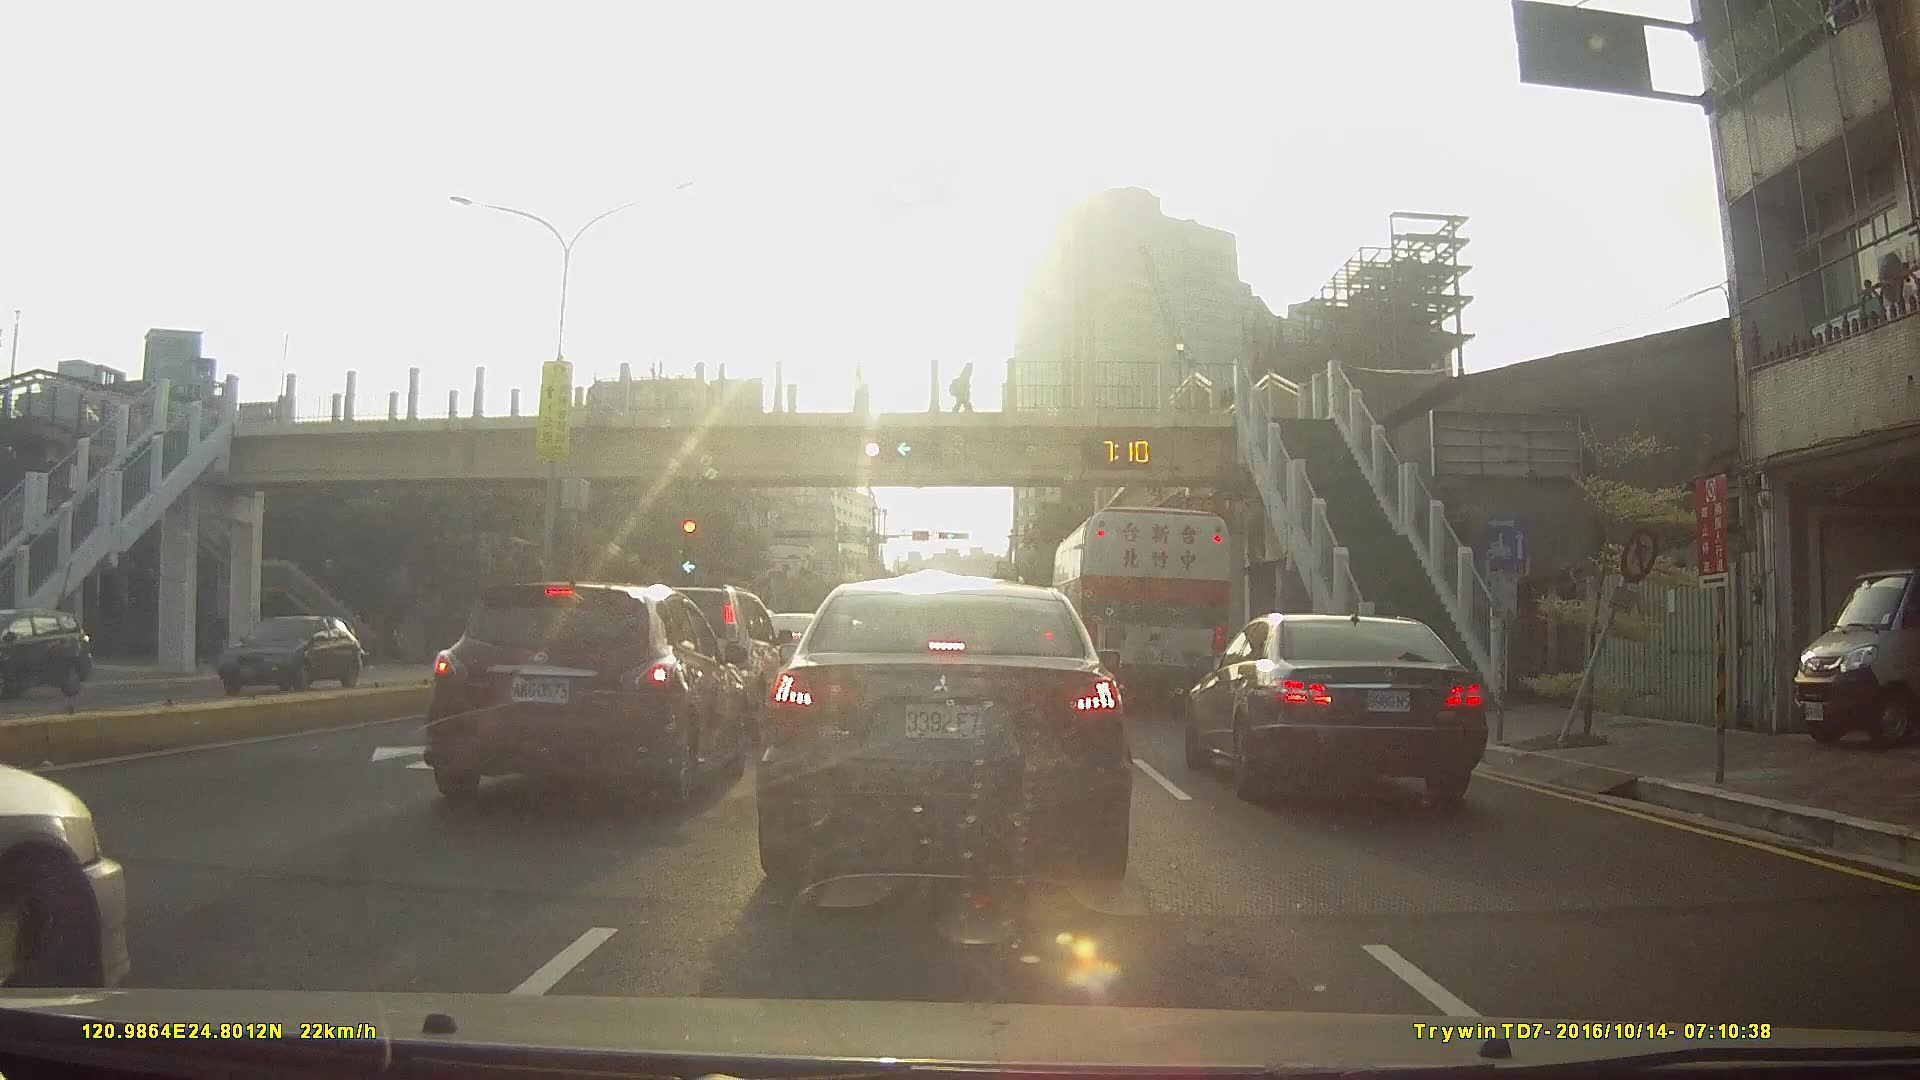pedestrian: (953, 362, 975, 411)
vehicle: (749, 572, 1137, 888), (420, 579, 751, 810), (1179, 609, 1484, 809), (1051, 504, 1233, 703), (204, 610, 353, 693), (0, 603, 91, 697)
